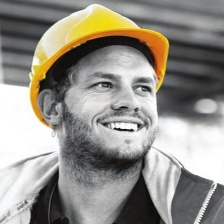helmet: (27, 3, 172, 124)
person: (28, 2, 172, 224)
